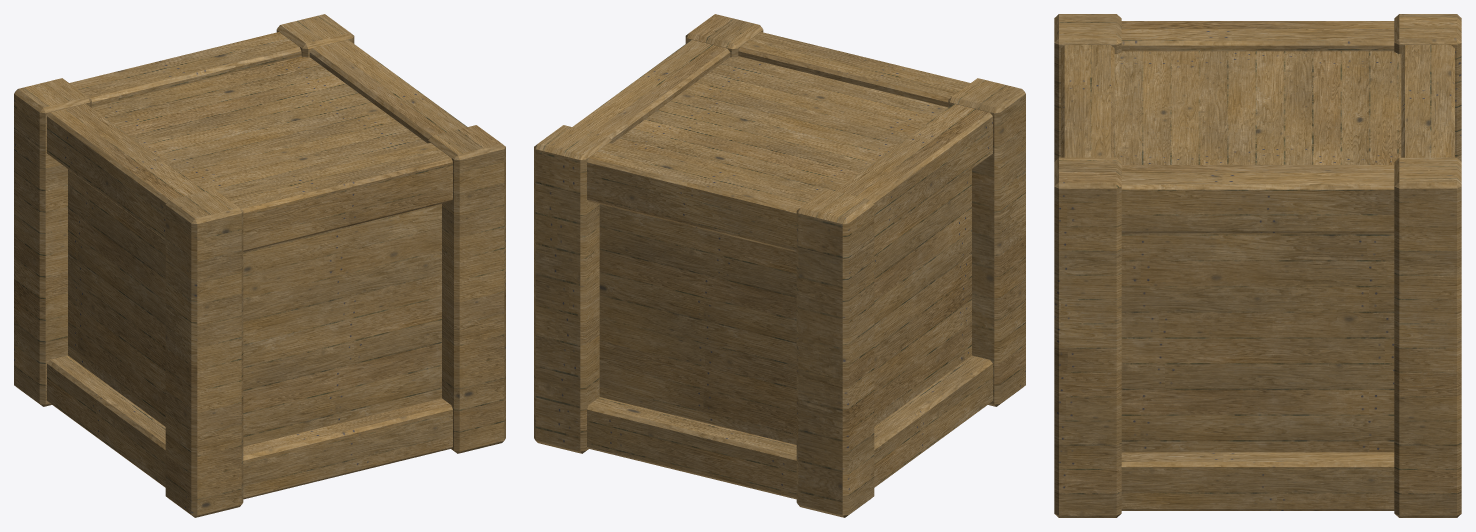
The model's file is crate.glb.
The picture shows the model from 3 angles, left to right: view 1: azimuth 30°, elevation 25°; view 2: azimuth 150°, elevation 25°; view 3: azimuth 270°, elevation 25°; orthographic projection. The views are drawn at different scales.
Parts seen in each view (by area): view 1: crate_mesh, crate_edge_tall.001, crate_edge_tall, crate_edge_tall.002, crate_edge_wide.004, crate_edge_wide.006, crate_edge_wide, crate_edge_wide.003, crate_edge_wide.005, crate_edge_wide.001, crate_edge_tall.003; view 2: crate_mesh, crate_edge_tall.002, crate_edge_tall.003, crate_edge_tall.001, crate_edge_wide.005, crate_edge_wide.007, crate_edge_wide, crate_edge_wide.003, crate_edge_wide.004, crate_edge_wide.001, crate_edge_tall; view 3: crate_mesh, crate_edge_tall, crate_edge_tall.003, crate_edge_wide.001, crate_edge_wide.002, crate_edge_wide, crate_edge_wide.004, crate_edge_wide.005, crate_edge_tall.001, crate_edge_tall.002.
Boxes of the visible parts, left/top/right/bottom form: crate_mesh: left=68, top=56, right=441, bottom=446; crate_edge_tall.001: left=165, top=189, right=243, bottom=517; crate_edge_tall: left=428, top=125, right=505, bottom=453; crate_edge_tall.002: left=14, top=78, right=91, bottom=406; crate_edge_wide.004: left=221, top=143, right=452, bottom=251; crate_edge_wide.006: left=243, top=398, right=452, bottom=499; crate_edge_wide: left=47, top=103, right=204, bottom=240; crate_edge_wide.003: left=47, top=355, right=165, bottom=487; crate_edge_wide.005: left=69, top=32, right=301, bottom=107; crate_edge_wide.001: left=309, top=39, right=467, bottom=143; crate_edge_tall.003: left=276, top=14, right=354, bottom=57; crate_mesh: left=599, top=56, right=971, bottom=444; crate_edge_tall.002: left=796, top=189, right=874, bottom=517; crate_edge_tall.003: left=534, top=125, right=611, bottom=453; crate_edge_tall.001: left=948, top=78, right=1025, bottom=406; crate_edge_wide.005: left=587, top=143, right=818, bottom=251; crate_edge_wide.007: left=587, top=397, right=796, bottom=499; crate_edge_wide: left=835, top=103, right=992, bottom=240; crate_edge_wide.003: left=874, top=355, right=992, bottom=487; crate_edge_wide.004: left=738, top=32, right=970, bottom=107; crate_edge_wide.001: left=572, top=39, right=730, bottom=143; crate_edge_tall: left=685, top=14, right=763, bottom=57; crate_mesh: left=1114, top=51, right=1401, bottom=452; crate_edge_tall: left=1054, top=157, right=1121, bottom=517; crate_edge_tall.003: left=1394, top=157, right=1461, bottom=517; crate_edge_wide.001: left=1121, top=165, right=1394, bottom=233; crate_edge_wide.002: left=1121, top=452, right=1394, bottom=510; crate_edge_wide: left=1121, top=21, right=1394, bottom=51; crate_edge_wide.004: left=1061, top=45, right=1114, bottom=157; crate_edge_wide.005: left=1401, top=45, right=1454, bottom=157; crate_edge_tall.001: left=1054, top=14, right=1121, bottom=161; crate_edge_tall.002: left=1394, top=14, right=1461, bottom=161.
Size of the model in its own units: 2.4 by 2.18 by 2.4.
Materials: 1 (1 with a texture image).
